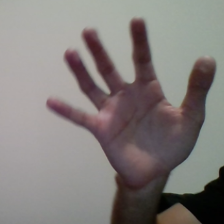left: (44, 8, 224, 192)
